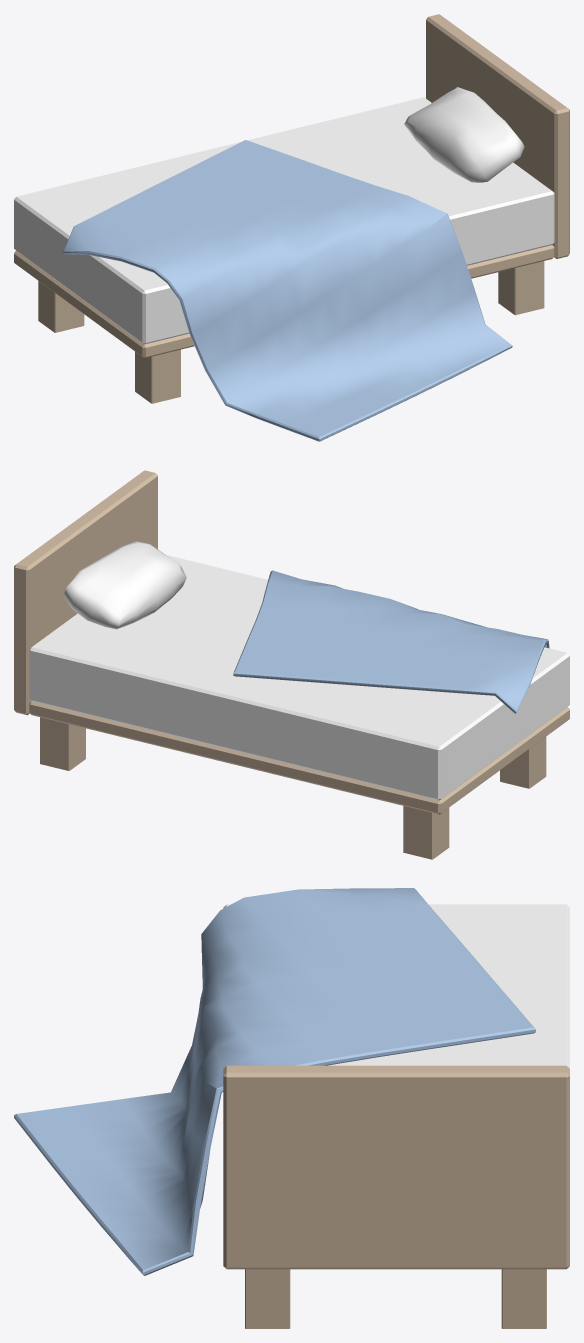
The model's file is M_Bed.FBX.
3 renders of one model, top to bottom at view 1: azimuth 30°, elevation 25°; view 2: azimuth 150°, elevation 25°; view 3: azimuth 270°, elevation 25°, orthographic. The views are drawn at different scales.
Visible parts, largest first — view 1: Box031; view 2: Box031; view 3: Box031.
Boxes of the visible parts, bbox=[...] form: Box031: bbox=[14, 14, 569, 441]; Box031: bbox=[14, 470, 569, 859]; Box031: bbox=[14, 888, 569, 1328].
Size of the model in its own units: 214 by 176 by 93.28.
